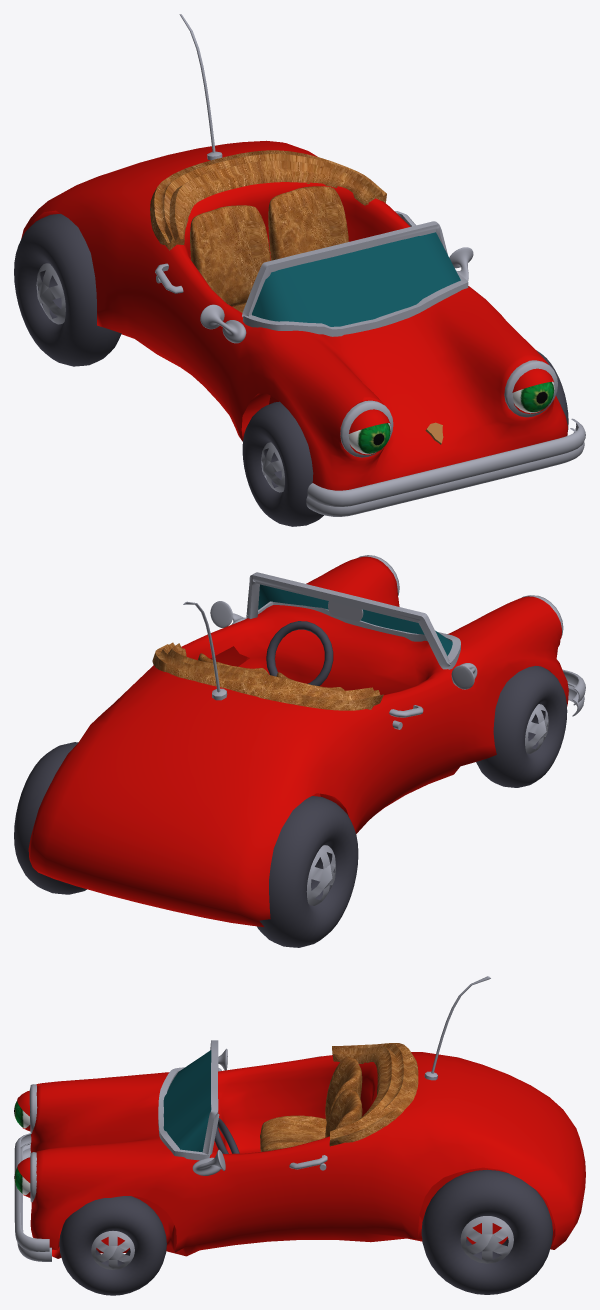
Rendered from RoaryOnePiece.obj.
3 views of the same model, one above another, from view 1: azimuth 30°, elevation 25°; view 2: azimuth 150°, elevation 25°; view 3: azimuth 270°, elevation 25° (orthographic). The views are drawn at different scales.
Visible parts, largest first — view 1: Roary.1; view 2: Roary.1; view 3: Roary.1.
Boxes of the visible parts, left/top/right/bottom form: Roary.1: left=14, top=14, right=585, bottom=526; Roary.1: left=14, top=555, right=585, bottom=947; Roary.1: left=14, top=976, right=585, bottom=1295.
Size of the model in its own units: 93.97 by 97.45 by 189.
